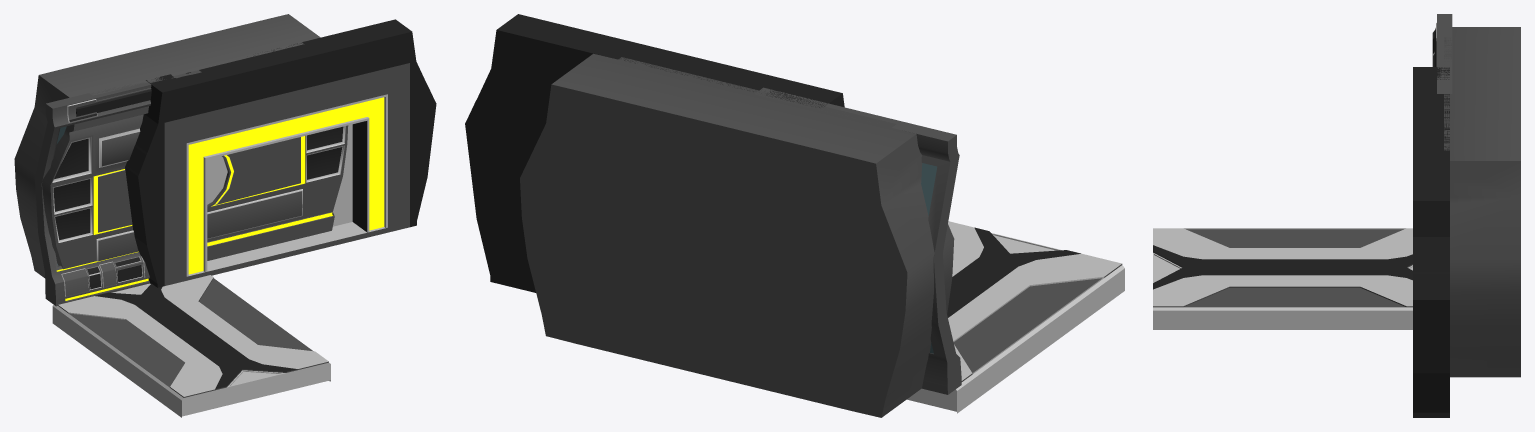
The model's file is Modkit.gltf.
The picture shows the model from 3 angles, left to right: view 1: azimuth 30°, elevation 25°; view 2: azimuth 150°, elevation 25°; view 3: azimuth 270°, elevation 25°; orthographic projection. The views are drawn at different scales.
Parts seen in each view (by area): view 1: Goal, Wall_L, Bridge, Window; view 2: Wall_L, Goal, Bridge, Window; view 3: Bridge, Wall_L, Goal, Window.
Part boxes in pixels (x1=…): Goal: x1=125, y1=19, x2=436, y2=287; Wall_L: x1=14, y1=14, x2=348, y2=277; Bridge: x1=52, y1=275, x2=330, y2=417; Window: x1=34, y1=70, x2=201, y2=306; Wall_L: x1=520, y1=53, x2=954, y2=417; Goal: x1=465, y1=14, x2=844, y2=292; Bridge: x1=907, y1=221, x2=1124, y2=413; Window: x1=755, y1=87, x2=961, y2=394; Bridge: x1=1153, y1=228, x2=1412, y2=329; Wall_L: x1=1434, y1=27, x2=1520, y2=377; Goal: x1=1413, y1=67, x2=1449, y2=417; Window: x1=1432, y1=14, x2=1452, y2=93.
Bounding box in the file's own units: 10 × 5.5 × 7.77.
